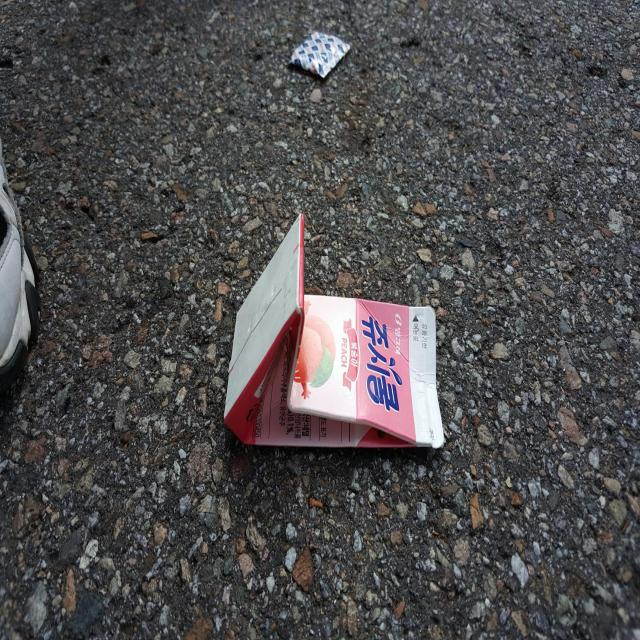paperpack: (224, 213, 445, 448)
